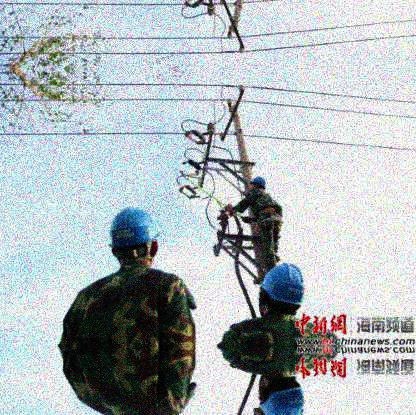helmet: (108, 206, 162, 268), (259, 263, 306, 317), (259, 374, 308, 413), (249, 176, 267, 191)
